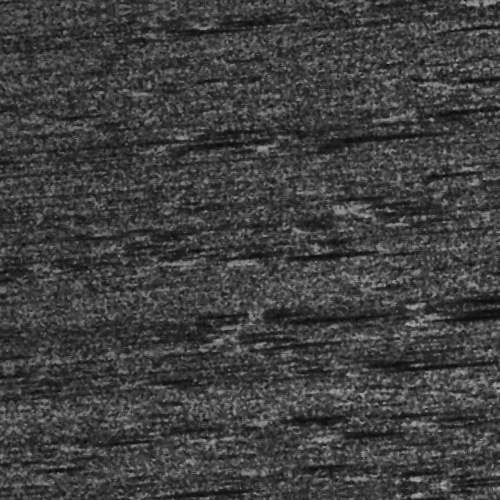object: (258, 141, 331, 150), (382, 325, 435, 336), (377, 311, 450, 318), (209, 320, 282, 325), (236, 257, 299, 262), (382, 123, 435, 128), (469, 13, 500, 20), (355, 374, 396, 377)
shadow: (295, 141, 410, 150), (409, 325, 500, 336), (414, 311, 500, 318), (246, 320, 355, 325), (409, 123, 500, 128), (267, 257, 358, 262), (376, 374, 448, 377)
